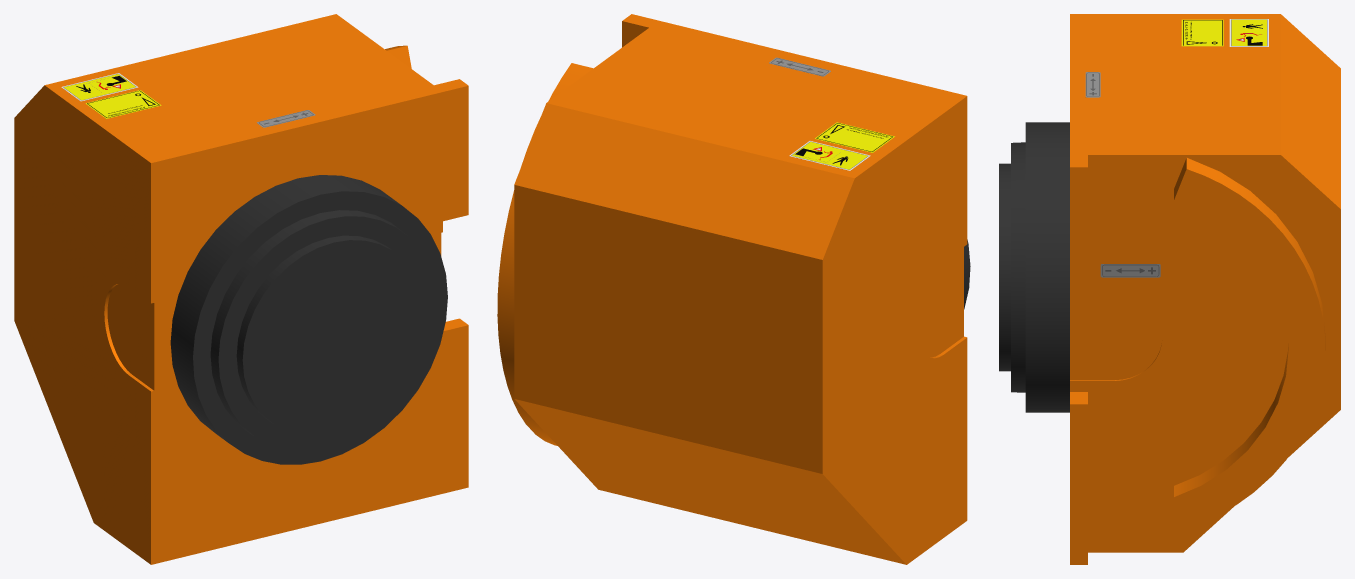
3 renders of one model, left to right at view 1: azimuth 30°, elevation 25°; view 2: azimuth 150°, elevation 25°; view 3: azimuth 270°, elevation 25°, orthographic. The views are drawn at different scales.
Visible parts, largest first — view 1: D21126648_001, D21126648_000, _ncl1_17, _ncl1_5; view 2: D21126648_001, _ncl1_17, _ncl1_5; view 3: D21126648_001, D21126648_000, _ncl1_17, _ncl1_5, _ncl1_21.
Boxes of the visible parts, x1,y1,x2,y2 form: D21126648_001: [14, 14, 468, 564]; D21126648_000: [170, 175, 447, 464]; _ncl1_17: [85, 90, 161, 118]; _ncl1_5: [64, 74, 135, 100]; D21126648_001: [497, 14, 967, 564]; _ncl1_17: [814, 122, 894, 152]; _ncl1_5: [792, 142, 867, 169]; D21126648_001: [1070, 14, 1340, 564]; D21126648_000: [999, 122, 1069, 412]; _ncl1_17: [1181, 19, 1223, 46]; _ncl1_5: [1231, 19, 1266, 45]; _ncl1_21: [1100, 264, 1160, 277].
Bounding box in the file's own units: 0.604 × 0.7302 × 0.569.
